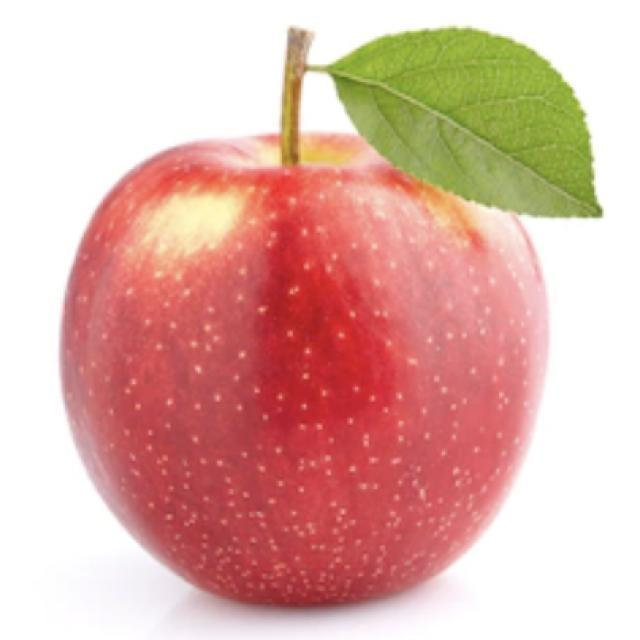Fresh Apple: (65, 131, 546, 640)
